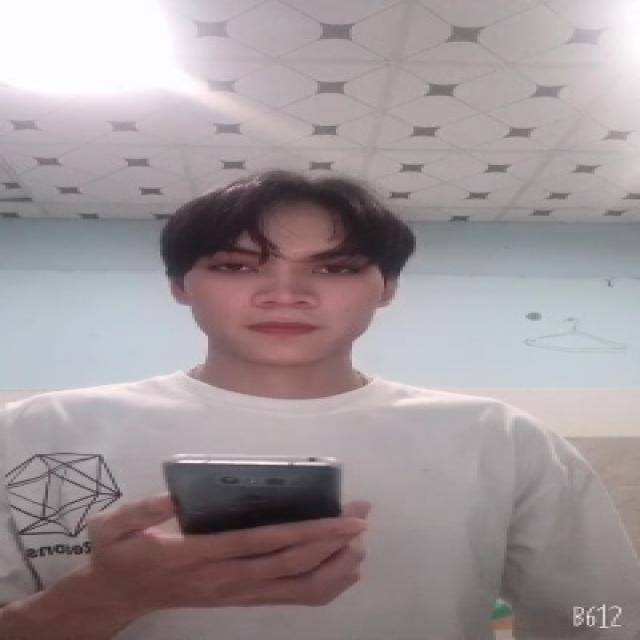Phone: (159, 450, 345, 542)
